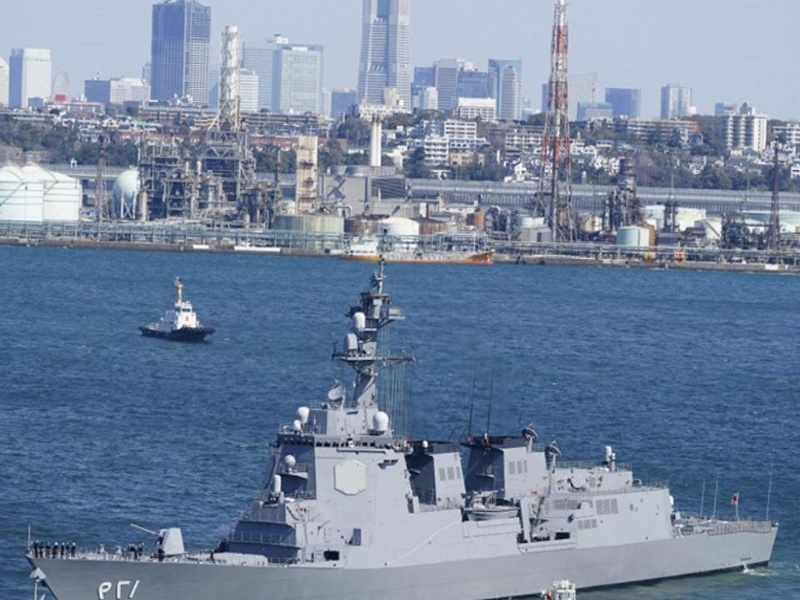boat: (140, 278, 209, 345)
cruise: (59, 367, 776, 598)
